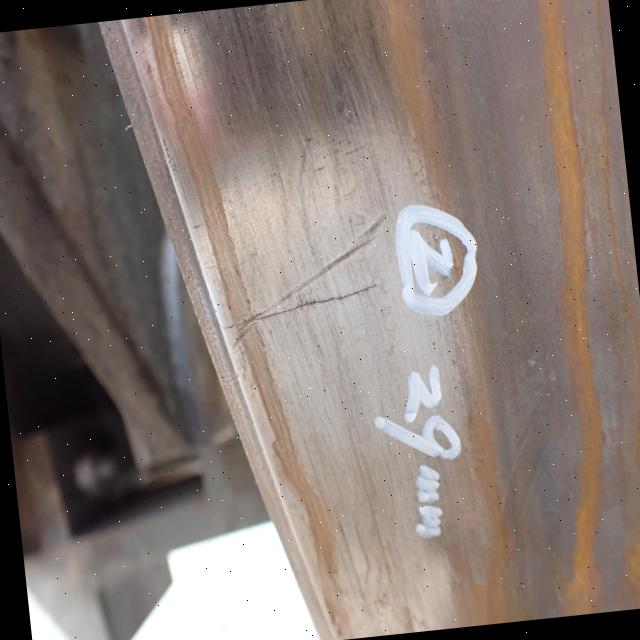Brake_Thermal_Cracks: (214, 276, 385, 344)
